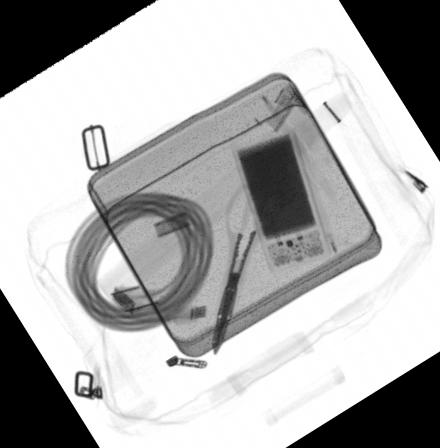Powerbank: (230, 126, 339, 274)
Scissors: (209, 182, 292, 360)
